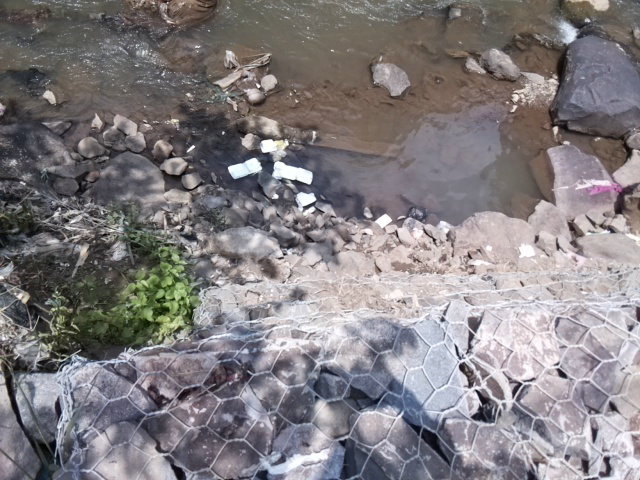Sampah_Plastik: (579, 177, 625, 193), (405, 204, 429, 223)
Sampah_Styrofoam: (274, 161, 316, 186), (226, 158, 263, 181), (294, 190, 318, 208), (258, 138, 279, 154), (374, 214, 395, 228)
